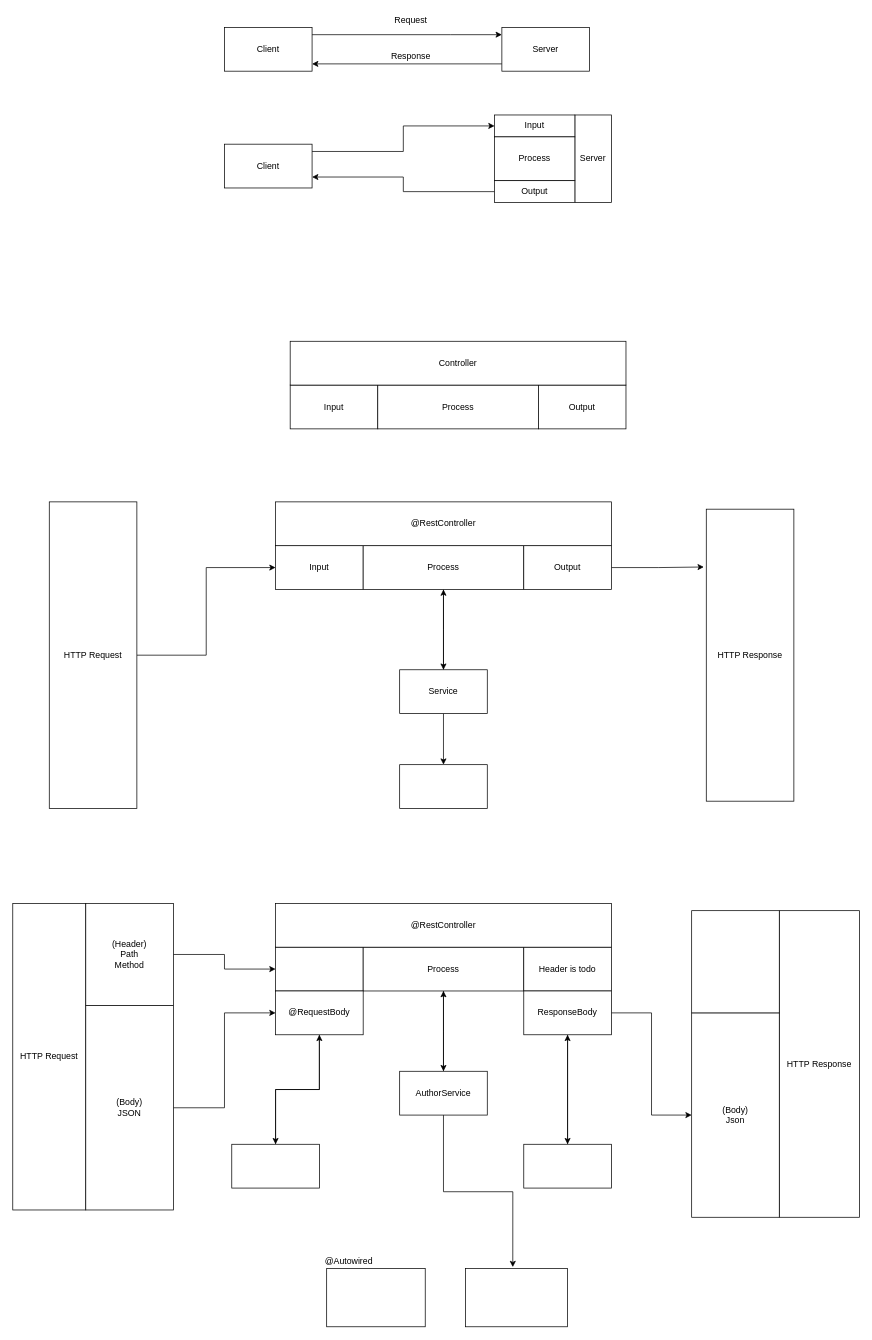
Some shapes in this 872 by 1340 pixel diagram are drawn without their labels. The centre of each missing label's shape, as x and y in pixels:
"@RequestMapping" belongs at (x=319, y=968).
"Author" belongs at (x=275, y=1166).
"DBAuthorCRUDService" belongs at (x=516, y=1297).
"Header" belongs at (x=735, y=961).
"ListAuthorCRUDService" belongs at (x=375, y=1297).
"ResponseAuthor" belongs at (x=567, y=1166).
"Service Implementation" belongs at (x=443, y=786).
